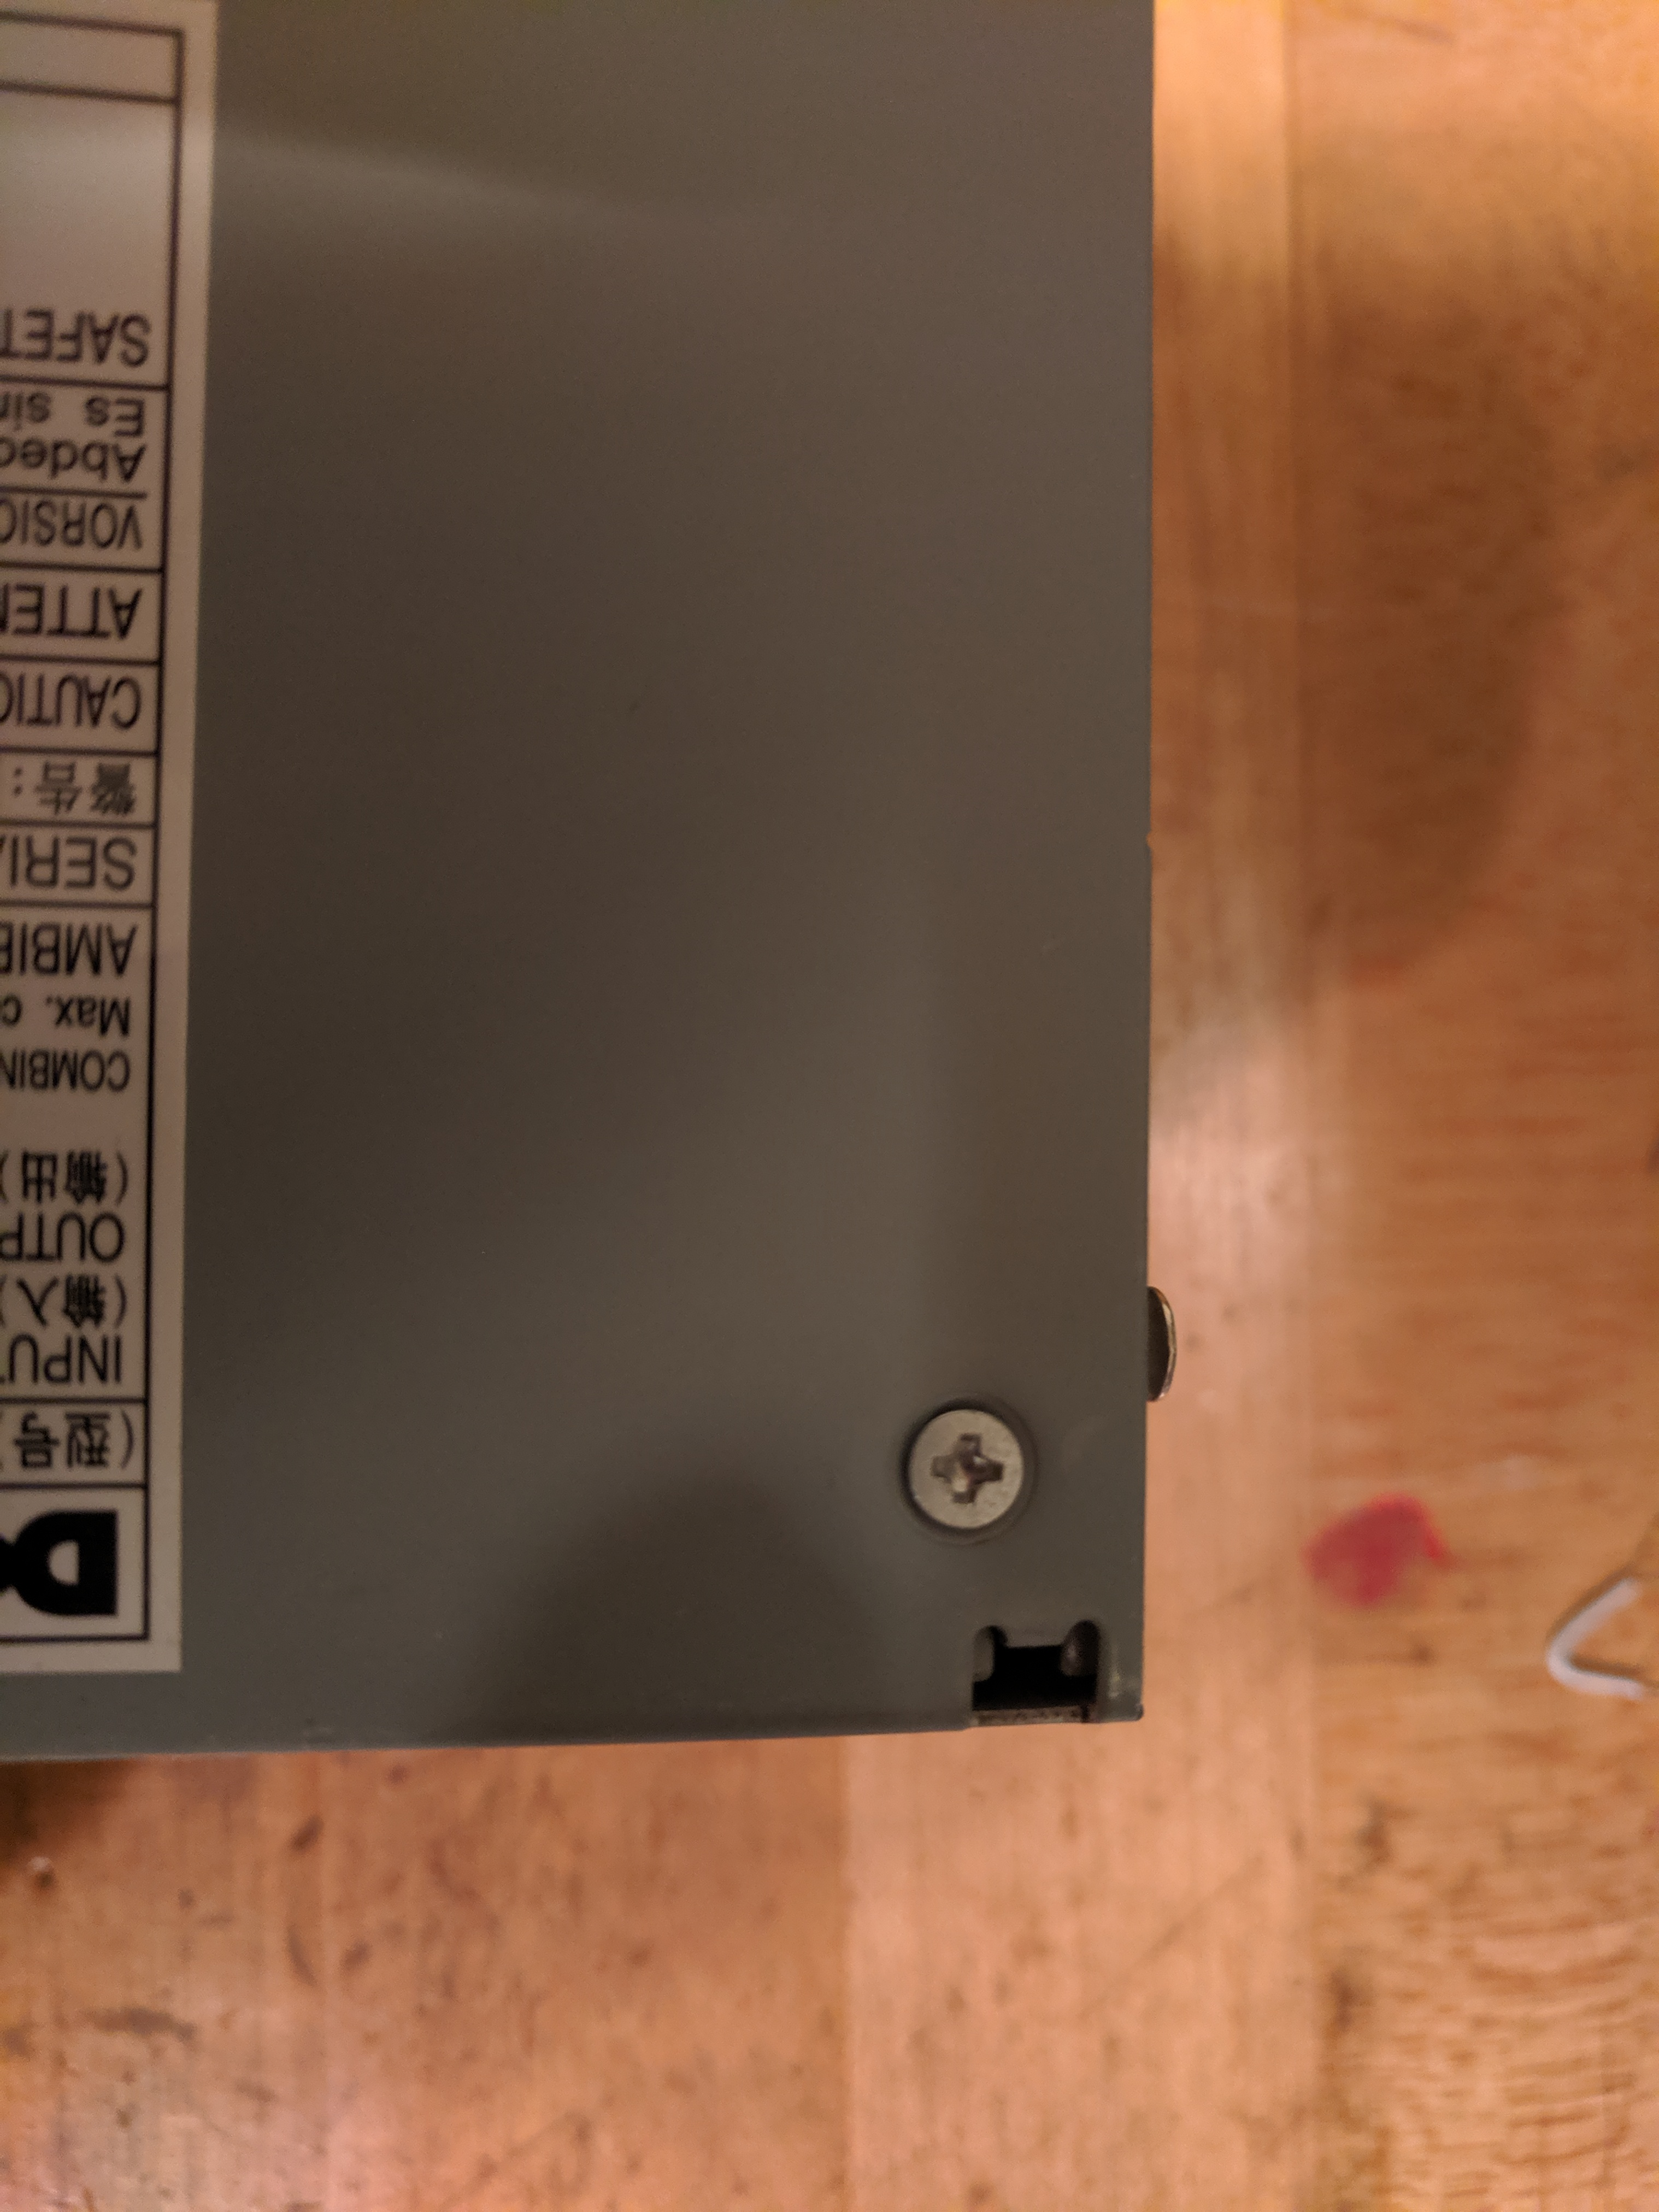cross_recessed_screw: (716, 331, 826, 441), (739, 1855, 843, 1963)
